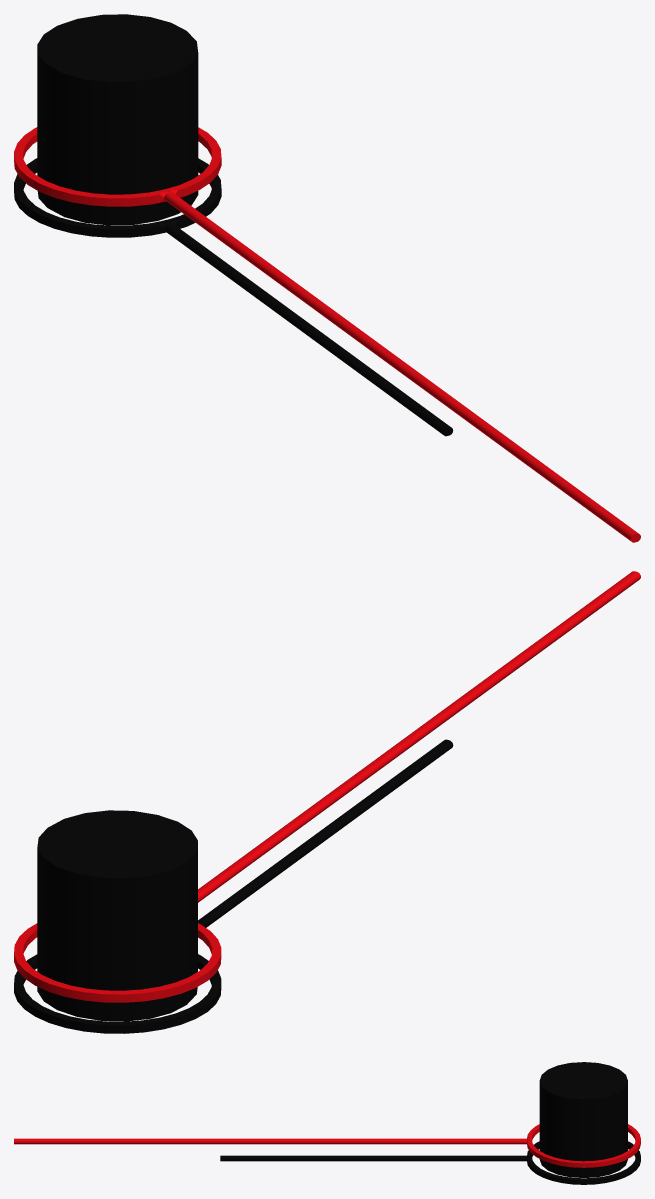
Rendered from timer.fbx.
3 renders of one model, top to bottom at view 1: azimuth 30°, elevation 25°; view 2: azimuth 150°, elevation 25°; view 3: azimuth 270°, elevation 25°, orthographic. The views are drawn at different scales.
Visible parts, largest first — view 1: Cube, Circle, Circle.001; view 2: Cube, Circle, Circle.001; view 3: Cube, Circle, Circle.001.
Part boxes in pixels (box(x1,y1,x2,y2)): Cube: box(37, 14, 198, 225); Circle: box(14, 127, 640, 542); Circle.001: box(14, 158, 453, 436); Cube: box(37, 810, 197, 1021); Circle: box(14, 571, 640, 1002); Circle.001: box(14, 739, 453, 1033); Cube: box(539, 1062, 627, 1177); Circle: box(14, 1124, 640, 1167); Circle.001: box(220, 1141, 640, 1184).
Size of the model in its own units: 348 by 269 by 1907.
